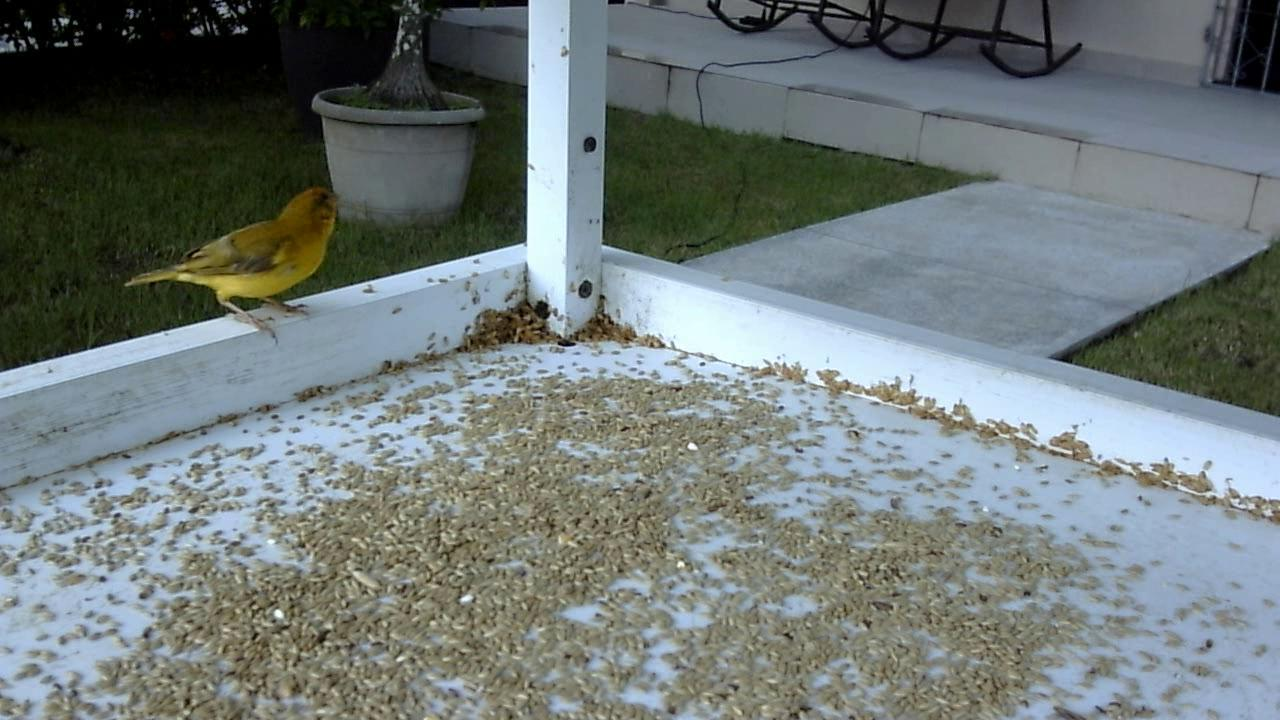canario_do_amazonas: (126, 184, 343, 351)
